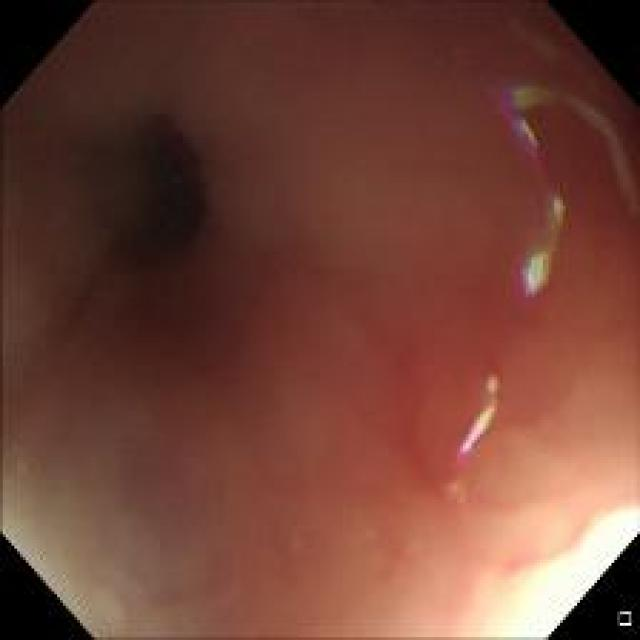color misalignment: (494, 78, 625, 290), (446, 369, 505, 466)
contrast: (80, 100, 249, 305)
saturation: (469, 510, 630, 636), (10, 490, 161, 619)
specularity: (461, 408, 499, 456)
